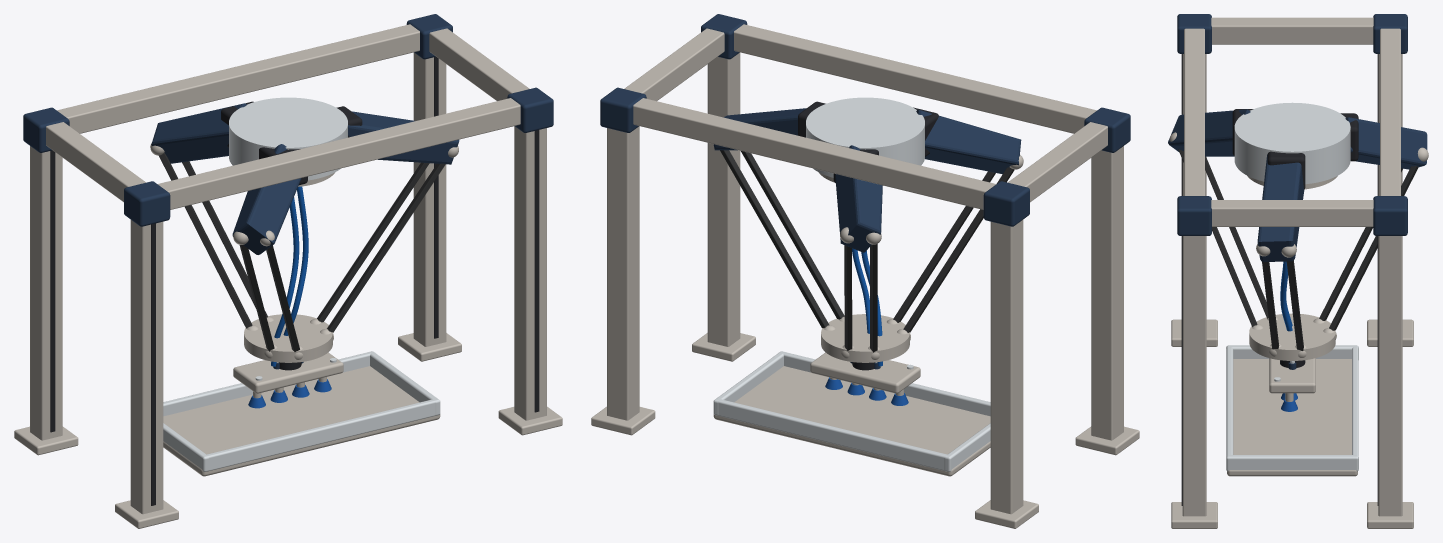
The model's file is robots-10.glb.
The picture shows the model from 3 angles, left to right: view 1: azimuth 30°, elevation 25°; view 2: azimuth 150°, elevation 25°; view 3: azimuth 270°, elevation 25°; orthographic projection. The views are drawn at different scales.
Parts seen in each view (by area): view 1: frame, tray, upper, links, hub, tool, manifold, lines, joints, cups, drives; view 2: frame, tray, upper, links, hub, tool, manifold, lines, joints, cups, drives; view 3: frame, tray, hub, upper, links, tool, manifold, drives, joints, lines.
Part boxes in pixels (<box>): frame: <box>14,14,562,528</box>; tray: <box>163,351,440,476</box>; upper: <box>151,103,459,254</box>; links: <box>158,152,445,351</box>; hub: <box>229,97,347,186</box>; tool: <box>244,314,332,370</box>; manifold: <box>233,352,343,393</box>; lines: <box>271,186,308,366</box>; joints: <box>150,143,458,359</box>; cups: <box>248,377,331,408</box>; drives: <box>221,101,362,185</box>; frame: <box>591,14,1139,528</box>; tray: <box>713,351,990,476</box>; upper: <box>713,108,1021,252</box>; links: <box>720,150,1014,352</box>; hub: <box>806,97,924,185</box>; tool: <box>821,314,909,370</box>; manifold: <box>810,352,920,393</box>; lines: <box>852,248,882,366</box>; joints: <box>713,144,1023,359</box>; cups: <box>825,377,908,405</box>; drives: <box>798,101,938,183</box>; frame: <box>1171,14,1413,528</box>; tray: <box>1226,345,1358,476</box>; hub: <box>1234,102,1350,189</box>; upper: <box>1168,109,1427,261</box>; links: <box>1178,149,1418,350</box>; tool: <box>1249,313,1335,367</box>; manifold: <box>1269,358,1315,393</box>; drives: <box>1232,109,1358,189</box>; joints: <box>1169,132,1428,357</box>; lines: <box>1280,261,1292,331</box>.
Size of the model in its own units: 3.17 by 2.32 by 1.73.
